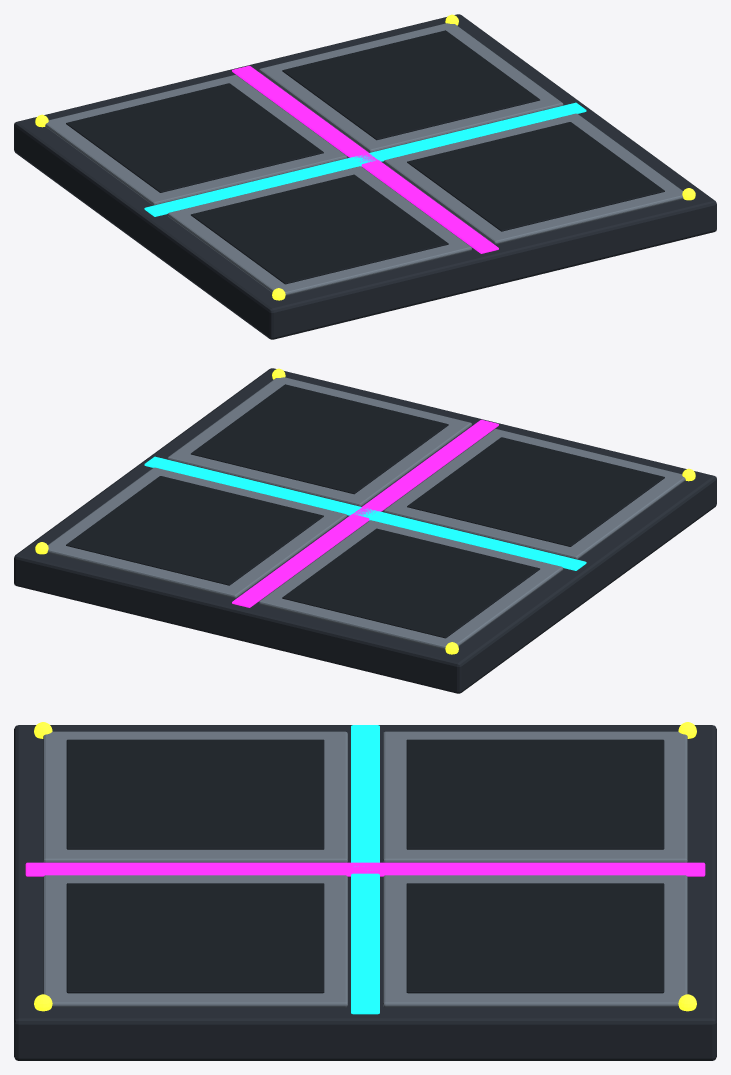
File: command_deck_platform.glb
3 renders of one model, top to bottom at view 1: azimuth 30°, elevation 25°; view 2: azimuth 150°, elevation 25°; view 3: azimuth 270°, elevation 25°, orthographic. The views are drawn at different scales.
Visible parts, largest first — view 1: Deck_Slab, PlateGrip_1.45_1.45, PlateGrip_-1.45_1.45, PlateGrip_-1.45_-1.45, PlateGrip_1.45_-1.45, TreadPlate_1.45_-1.45, TreadPlate_-1.45_-1.45, TreadPlate_1.45_1.45, TreadPlate_-1.45_1.45, Conduit_Trench_X, Conduit_Trench_Y; view 2: Deck_Slab, PlateGrip_1.45_-1.45, PlateGrip_-1.45_-1.45, PlateGrip_-1.45_1.45, PlateGrip_1.45_1.45, TreadPlate_1.45_1.45, TreadPlate_-1.45_1.45, TreadPlate_1.45_-1.45, TreadPlate_-1.45_-1.45, Conduit_Trench_X, Conduit_Trench_Y; view 3: Deck_Slab, PlateGrip_-1.45_1.45, PlateGrip_-1.45_-1.45, PlateGrip_1.45_1.45, PlateGrip_1.45_-1.45, TreadPlate_1.45_1.45, TreadPlate_1.45_-1.45, TreadPlate_-1.45_1.45, TreadPlate_-1.45_-1.45, Conduit_Trench_Y, Conduit_Trench_X.
Boxes of the visible parts, x1,y1,x2,y2 form: Deck_Slab: (14,14,716,339); PlateGrip_1.45_1.45: (282,30,539,140); PlateGrip_-1.45_1.45: (66,83,323,192); PlateGrip_-1.45_-1.45: (191,174,448,284); PlateGrip_1.45_-1.45: (407,122,664,231); TreadPlate_1.45_-1.45: (384,113,683,244); TreadPlate_-1.45_-1.45: (167,166,471,295); TreadPlate_1.45_1.45: (259,23,563,152); TreadPlate_-1.45_1.45: (45,75,347,205); Conduit_Trench_X: (144,102,586,216); Conduit_Trench_Y: (232,65,498,253); Deck_Slab: (14,368,716,693); PlateGrip_1.45_-1.45: (191,384,448,494); PlateGrip_-1.45_-1.45: (407,437,664,546); PlateGrip_-1.45_1.45: (282,528,539,638); PlateGrip_1.45_1.45: (66,476,323,585); TreadPlate_1.45_1.45: (47,467,346,598); TreadPlate_-1.45_1.45: (259,520,563,649); TreadPlate_1.45_-1.45: (167,377,471,506); TreadPlate_-1.45_-1.45: (383,429,685,559); Conduit_Trench_X: (144,456,586,570); Conduit_Trench_Y: (232,419,498,607); Deck_Slab: (14,725,716,1060); PlateGrip_-1.45_1.45: (406,739,664,849); PlateGrip_-1.45_-1.45: (66,739,324,849); PlateGrip_1.45_1.45: (406,883,664,993); PlateGrip_1.45_-1.45: (66,883,324,993); TreadPlate_1.45_1.45: (383,875,687,1007); TreadPlate_1.45_-1.45: (43,875,347,1007); TreadPlate_-1.45_1.45: (383,731,687,862); TreadPlate_-1.45_-1.45: (43,731,347,862); Conduit_Trench_Y: (25,862,705,876); Conduit_Trench_X: (351,725,379,1014).
Bounding box in the file's own units: 6 × 0.52 × 6.
